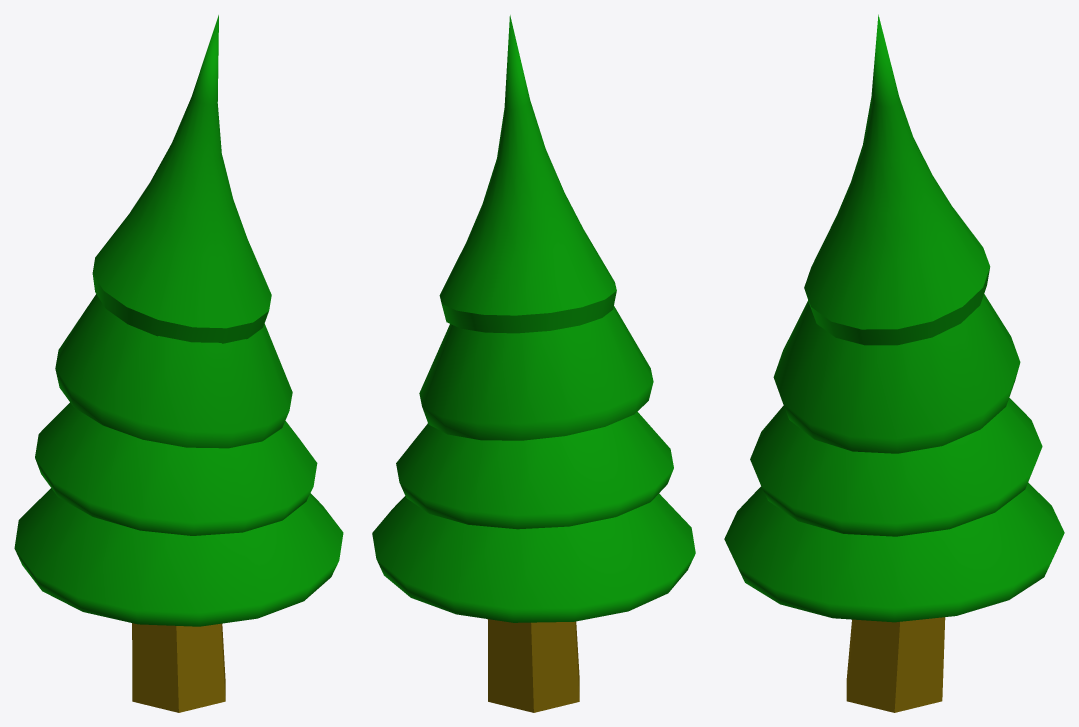
Rendered from Tree_v2_001.fbx.
3 views of the same model, side by side, from view 1: azimuth 30°, elevation 25°; view 2: azimuth 150°, elevation 25°; view 3: azimuth 270°, elevation 25° (orthographic). The views are drawn at different scales.
Parts seen in each view (by area): view 1: Tree_v2_001; view 2: Tree_v2_001; view 3: Tree_v2_001.
Part boxes in pixels (bbox=[...]): Tree_v2_001: bbox=[14, 15, 343, 712]; Tree_v2_001: bbox=[372, 15, 695, 712]; Tree_v2_001: bbox=[724, 14, 1064, 712].
Size of the model in its own units: 133 by 299 by 133.
